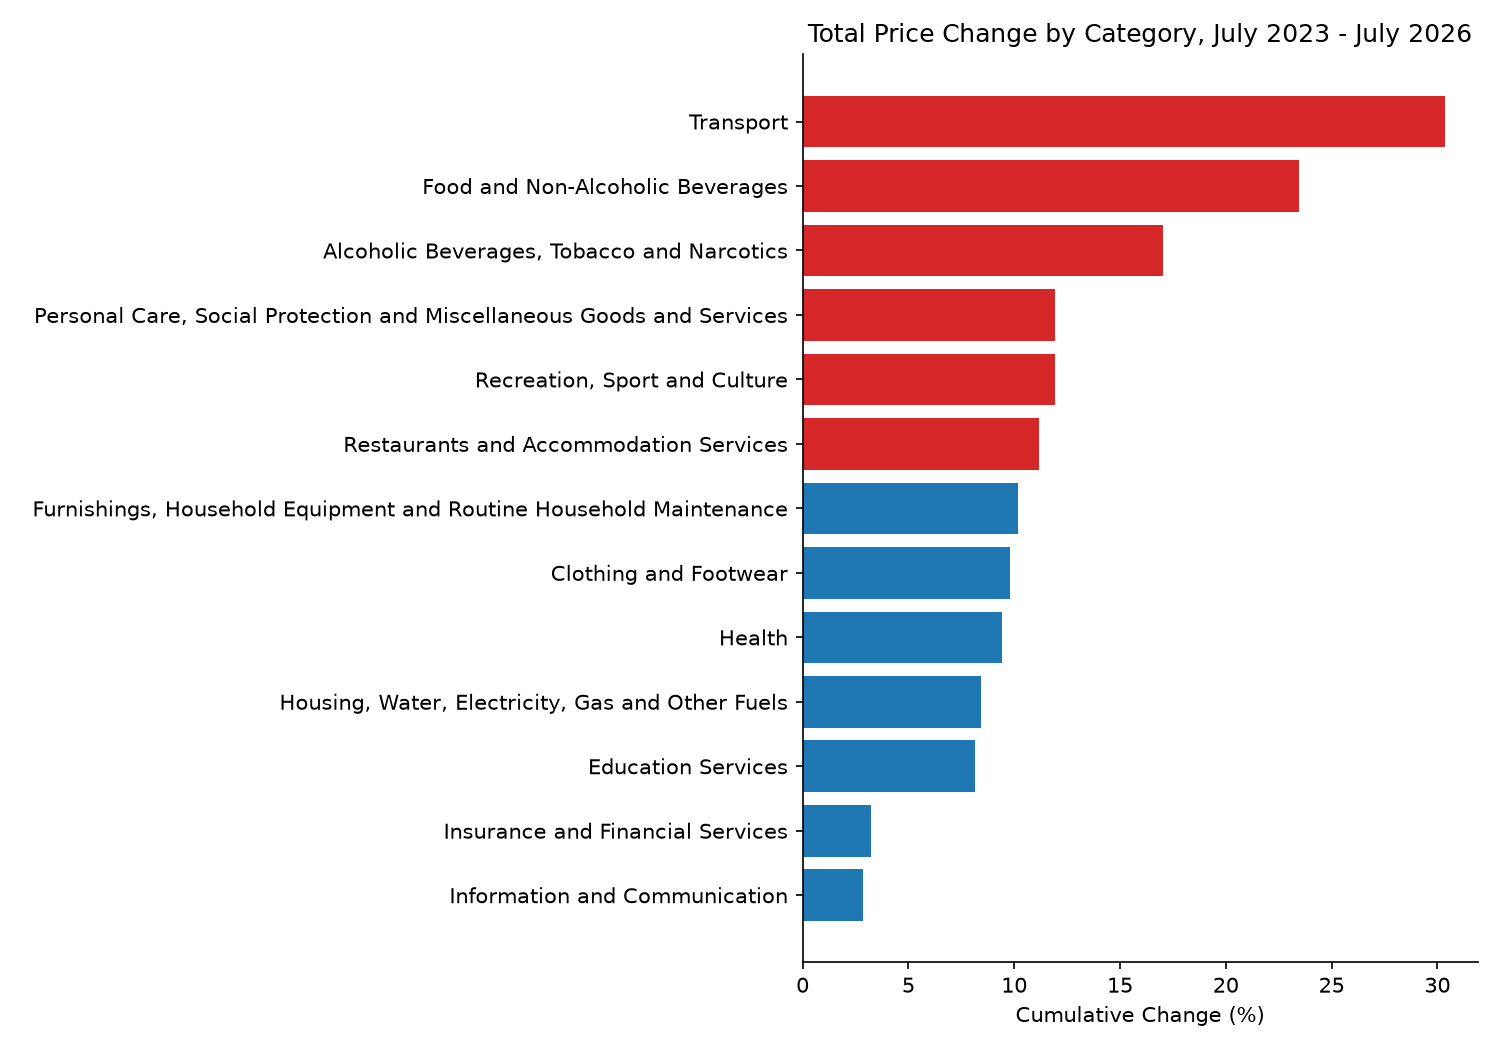

This screenshot's page, from the dashboard's own definition file:
{"tool":"powerbi","page":{"name":"Latest Category Inflation Ranking","canvas":[1920,1080],"ordinal":5},"visuals":[{"type":"clusteredBarChart","title":"Category Inflation Ranking - July 2026","fields":{"Category":["cpi_categories_long.category"],"Y":["Sum(cpi_categories_long.yoy_change_pct)"]},"box":[332.3,128.5,1127,822.1],"z":1}]}

Visuals, with their boxes on the page's 1920x1080 design canvas (x1, y1, x2, y2). These are canvas units, not pixel positions in the 1500x1050 screenshot, which may show the page scaled, cropped or inside an application window:
"Category Inflation Ranking - July 2026" clusteredBarChart: [x1=332, y1=128, x2=1459, y2=951]
